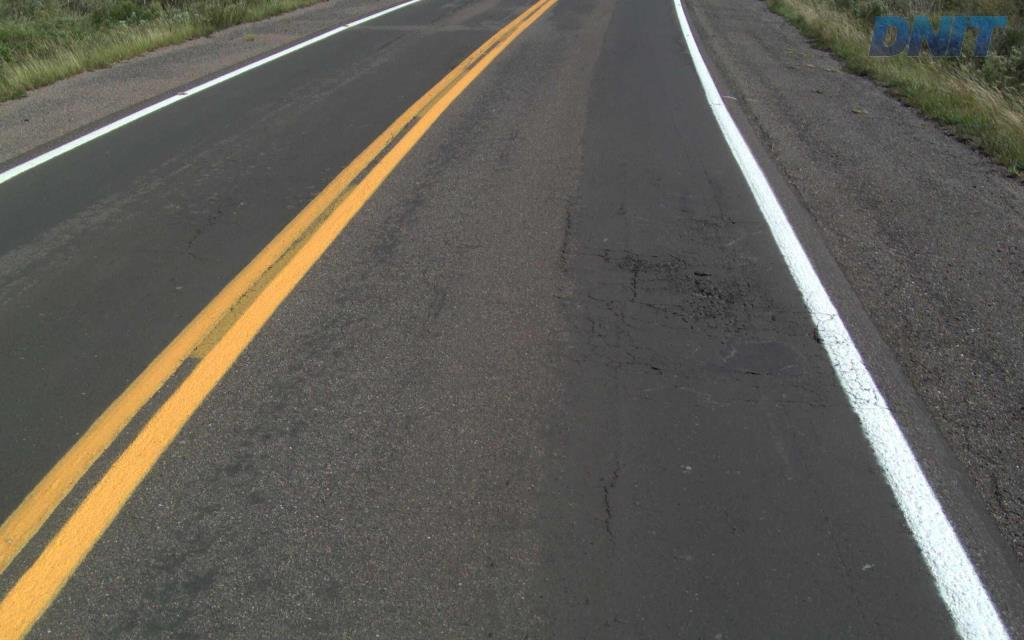crack: (687, 271, 737, 318), (624, 255, 651, 303)
